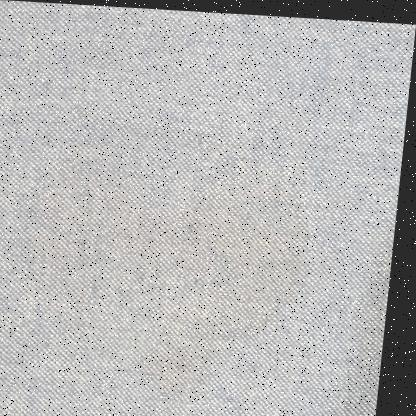spot: (214, 210, 318, 295), (194, 162, 296, 236), (193, 282, 250, 354), (166, 338, 215, 398), (252, 297, 296, 331)
